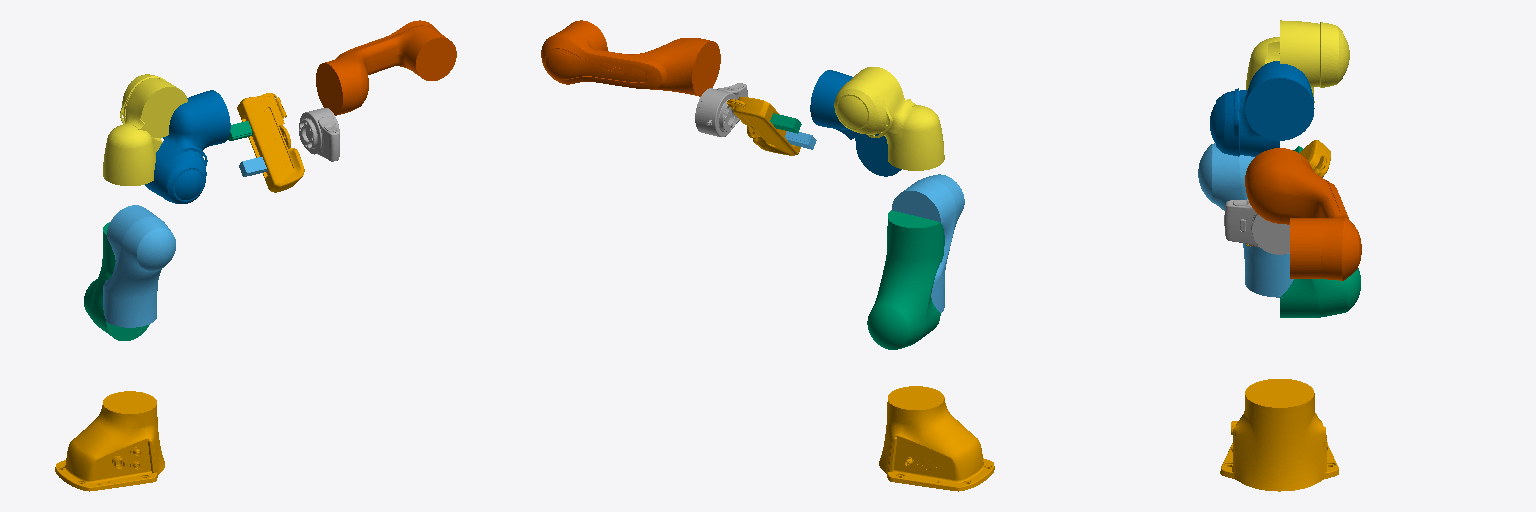
URDF robot description (panda):
<?xml version="1.0" ?>
<robot name="panda">

  <link name="panda_link0">
    <visual>
      <geometry>
        <mesh filename="../../../urdf/franka_description/meshes/visual/link0.obj"/>
      </geometry>
    </visual>
    <collision>
      <geometry>
        <mesh filename="../../../urdf/franka_description/meshes/collision/link0.stl"/>
      </geometry>
    </collision>
    <inertial>
      <origin rpy="0 0 0" xyz="-0.041018 -0.00014 0.049974"/>
      <mass value="0.629769"/>
      <inertia ixx="0.00315" ixy="8.2904e-07" ixz="0.00015" iyy="0.00388" iyz="8.2299e-06" izz="0.004285"/>
    </inertial>
  </link>

  <joint name="panda_joint1" type="revolute">
    <origin rpy="0 0 0" xyz="0 0 0.333"/>
    <parent link="panda_link0"/>
    <child link="panda_link1"/>
    <axis xyz="0 0 1"/>
    <limit effort="87" lower="-2.8973" upper="2.8973" velocity="2.1750"/>
    <dynamics damping="0.0" friction="0.0"/>
  </joint>

  <link name="panda_link1">
    <visual>
      <geometry>
        <mesh filename="../../../urdf/franka_description/meshes/visual/link1.obj"/>
      </geometry>
    </visual>
    <collision>
      <geometry>
        <mesh filename="../../../urdf/franka_description/meshes/collision/link1.stl"/>
      </geometry>
    </collision>
    <inertial>
      <origin rpy="0 0 0" xyz="0.003875 0.002081 -0.04762"/>
      <mass value="4.970684"/>
      <inertia ixx="0.70337" ixy="-0.000139" ixz="0.006772" iyy="0.70661" iyz="0.019169" izz="0.009117"/>
    </inertial>
  </link>

  <joint name="panda_joint2" type="revolute">
    <origin rpy="-1.5707963267948966 0 0" xyz="0 0 0"/>
    <parent link="panda_link1"/>
    <child link="panda_link2"/>
    <axis xyz="0 0 1"/>
    <limit effort="87" lower="-1.7628" upper="1.7628" velocity="2.1750"/>
    <dynamics damping="0.0" friction="0.0"/>
  </joint>
  
  <link name="panda_link2">
    <visual>
      <geometry>
        <mesh filename="../../../urdf/franka_description/meshes/visual/link2.obj"/>
      </geometry>
    </visual>
    <collision>
      <geometry>
        <mesh filename="../../../urdf/franka_description/meshes/collision/link2.stl"/>
      </geometry>
    </collision>
    <inertial>
      <origin rpy="0 0 0" xyz="-0.003141 -0.02872  0.003495"/>
      <mass value="0.646926"/>
      <inertia ixx="0.007962" ixy="-0.003925" ixz="0.010254" iyy="0.02811" iyz="0.000704" izz="0.025995"/>
    </inertial>
  </link>

  <joint name="panda_joint3" type="revolute">
    <origin rpy="1.5707963267948966 0 0" xyz="0 -0.316 0"/>
    <parent link="panda_link2"/>
    <child link="panda_link3"/>
    <axis xyz="0 0 1"/>
    <limit effort="87" lower="-2.8973" upper="2.8973" velocity="2.1750"/>
    <dynamics damping="0.0" friction="0.0"/>
  </joint>
  
  <link name="panda_link3">
    <visual>
      <geometry>
        <mesh filename="../../../urdf/franka_description/meshes/visual/link3.obj"/>
      </geometry>
    </visual>
    <collision>
      <geometry>
        <mesh filename="../../../urdf/franka_description/meshes/collision/link3.stl"/>
      </geometry>
    </collision>
    <inertial>
      <origin rpy="0 0 0" xyz="2.7518e-02 3.9252e-02 -6.6502e-02"/>
      <mass value="3.228604"/>
      <inertia ixx="0.037242" ixy="-0.004761" ixz="-0.011396" iyy="0.036155" iyz="-0.012805" izz="0.01083"/>
    </inertial>
  </link>

  <joint name="panda_joint4" type="revolute">
    <origin rpy="1.5707963267948966 0 0" xyz="0.0825 0 0"/>
    <parent link="panda_link3"/>
    <child link="panda_link4"/>
    <axis xyz="0 0 1"/>
    <limit effort="87" lower="-3.0718" upper="-0.0698" velocity="2.1750"/>
    <dynamics damping="0.0" friction="0.0"/>
  </joint>
  
  <link name="panda_link4">
    <visual>
      <geometry>
        <mesh filename="../../../urdf/franka_description/meshes/visual/link4.obj"/>
      </geometry>
    </visual>
    <collision>
      <geometry>
        <mesh filename="../../../urdf/franka_description/meshes/collision/link4.stl"/>
      </geometry>
    </collision>
    <inertial>
      <origin rpy="0 0 0" xyz="-5.317e-02 1.04419e-01 2.7454e-02"/>
      <mass value="3.587895"/>
      <inertia ixx="0.025853" ixy="0.007796" ixz="-0.001332" iyy="0.019552" iyz="0.008641" izz="0.028323"/>
    </inertial>
  </link>

  <joint name="panda_joint5" type="revolute">
    <origin rpy="-1.5707963267948966 0 0" xyz="-0.0825 0.384 0"/>
    <parent link="panda_link4"/>
    <child link="panda_link5"/>
    <axis xyz="0 0 1"/>
    <limit effort="12" lower="-2.8973" upper="2.8973" velocity="2.6100"/>
    <dynamics damping="0.0" friction="0.0"/>
  </joint>
  
  <link name="panda_link5">
    <visual>
      <geometry>
        <mesh filename="../../../urdf/franka_description/meshes/visual/link5.obj"/>
      </geometry>
    </visual>
    <collision>
      <geometry>
        <mesh filename="../../../urdf/franka_description/meshes/collision/link5.stl"/>
      </geometry>
    </collision>
    <inertial>
      <origin rpy="0 0 0" xyz="-1.1953e-02 4.1065e-02 -3.8437e-02"/>
      <mass value="1.225946"/>
      <inertia ixx="0.035549" ixy="-0.002117" ixz="-0.004037" iyy="0.029474" iyz="0.000229" izz="0.008627"/>
    </inertial>
  </link>

  <joint name="panda_joint6" type="revolute">
    <origin rpy="1.5707963267948966 0 0" xyz="0 0 0"/>
    <parent link="panda_link5"/>
    <child link="panda_link6"/>
    <axis xyz="0 0 1"/>
    <limit effort="12" lower="-0.0175" upper="3.7525" velocity="2.6100"/>
    <dynamics damping="0.0" friction="0.0"/>
  </joint>
  
  <link name="panda_link6">
    <visual>
      <geometry>
        <mesh filename="../../../urdf/franka_description/meshes/visual/link6.obj"/>
      </geometry>
    </visual>
    <collision>
      <geometry>
        <mesh filename="../../../urdf/franka_description/meshes/collision/link6.stl"/>
      </geometry>
    </collision>
    <inertial>
      <origin rpy="0 0 0" xyz="6.0149e-02 -1.4117e-02 -1.0517e-02"/>
      <mass value="1.666555"/>
      <inertia ixx="0.001964" ixy="0.000109" ixz="-0.001158" iyy="0.004354" iyz="0.000341" izz="0.005433"/>
    </inertial>
  </link>

  <joint name="panda_joint7" type="revolute">
    <origin rpy="1.5707963267948966 0 0" xyz="0.088 0 0"/>
    <parent link="panda_link6"/>
    <child link="panda_link7"/>
    <axis xyz="0 0 1"/>
    <limit effort="12" lower="-2.8973" upper="2.8973" velocity="2.6100"/>
    <dynamics damping="0.0" friction="0.0"/>
  </joint>
  
  <link name="panda_link7">
    <visual>
      <geometry>
        <mesh filename="../../../urdf/franka_description/meshes/visual/link7.obj"/>
      </geometry>
    </visual>
    <collision>
      <geometry>
        <mesh filename="../../../urdf/franka_description/meshes/collision/link7.stl"/>
      </geometry>
    </collision>
    <inertial>
      <origin rpy="0 0 0" xyz="1.0517e-02 -4.252e-03 6.1597e-02"/>
      <mass value="0.735522"/>
      <inertia ixx="0.012516" ixy="-0.000428" ixz="-0.001196" iyy="0.010027" iyz="-0.000741" izz="0.004815"/>
    </inertial>
  </link>

  <joint name="panda_hand_joint" type="fixed">
    <parent link="panda_link7"/>
    <child link="panda_hand"/>
    <origin rpy="0 0 -0.7853981633974483" xyz="0 0 0.107"/>
  </joint>
  
  <link name="panda_hand">
    <visual>
      <geometry>
        <mesh filename="../../../urdf/franka_description/meshes/visual/hand.obj"/>
      </geometry>
    </visual>
    <collision>
      <geometry>
        <mesh filename="../../../urdf/franka_description/meshes/collision/hand.stl"/>
      </geometry>
    </collision>
    <inertial>
      <origin rpy="0 0 0" xyz="-0.01 0 0.03"/>
      <mass value="0.73"/>
      <inertia ixx="0.001" ixy="0" ixz="0" iyy="0.0025" iyz="0" izz="0.0017"/>
    </inertial>
  </link>

  <joint name="panda_finger_joint1" type="fixed">
    <parent link="panda_hand"/>
    <child link="panda_leftfinger"/>
    <origin xyz="0.0 0.025361460000000002 0.0584" rpy="0.0 0.0 0.0"/>
</joint>

  <joint name="panda_finger_joint2" type="fixed">
    <parent link="panda_hand"/>
    <child link="panda_rightfinger"/>
    <origin xyz="0.0 -0.025361460000000002 0.0584" rpy="0.0 0.0 0.0"/>
</joint>
  
  <link name="panda_leftfinger">
    <visual>
      <geometry>
        <mesh filename="../../mesh/fabrica_franka_table/fabrica_franka_finger_rubber_viz.obj"/>
      </geometry>
    </visual>
    <!--finger-->
    <collision>
      <origin rpy="0 0 0" xyz="0.0 0.0155 0.027"/>
      <geometry>
        <box size="0.021 0.026 0.054"/>
      </geometry>
    </collision>
    <!--fingerpad-->
    <collision>
      <origin rpy="0 0 0" xyz="0.0 0.00125 0.02923232"/>
      <geometry>
        <box size="0.01224264 0.0025 0.04377800"/>
      </geometry>
    </collision>
    <inertial>
      <origin rpy="0 0 0" xyz="0 0.0114 0.0231"/>
      <mass value="0.0297"/>
      <inertia ixx="7.552e-06" ixy="0" ixz="0" iyy="7.159e-06" iyz="1.043e-6" izz="2.352e-06"/>
    </inertial>
  </link>

  <link name="panda_rightfinger">
    <visual>
      <origin rpy="0 0 3.141592653589793" xyz="0 0 0"/>
      <geometry>
        <mesh filename="../../mesh/fabrica_franka_table/fabrica_franka_finger_rubber_viz.obj"/>
      </geometry>
    </visual>
    <!--finger-->
    <collision>
      <origin rpy="0 0 0" xyz="0.0 -0.0155 0.027"/>
      <geometry>
        <box size="0.021 0.026 0.054"/>
      </geometry>
    </collision>
    <!--fingerpad-->
    <collision>
      <origin rpy="0 0 0" xyz="0.0 -0.00125 0.02923232"/>
      <geometry>
        <box size="0.01224264 0.0025 0.04377800"/>
      </geometry>
    </collision>
    <inertial>
      <origin rpy="0 0 3.141592653589793" xyz="0 0.0114 0.0231"/>
      <mass value="0.0297"/>
      <inertia ixx="7.552e-06" ixy="0" ixz="0" iyy="7.159e-06" iyz="1.043e-6" izz="2.352e-06"/>
    </inertial>
  </link>

  <!--Used for calculating pose and Jacobian.
  Joint connects hand to dummy link located at midpoint between centers of original fingerpads (when fingers are mirrored).-->
  <joint name="panda_fingertip_centered_joint" type="fixed">
      <parent link="panda_hand"/>
      <child link="panda_fingertip_centered"/>
      <origin rpy="0 0 0" xyz="0 0 0.1034"/>
  </joint>

  <link name="panda_fingertip_centered">
    <inertial>
      <origin rpy="0 0 0" xyz="0 0 0"/>
      <mass value="1.0e-6"/>
      <inertia ixx="1.0e-09" ixy="0" ixz="0" iyy="1.0e-09" iyz="0" izz="1.0e-09"/>
    </inertial>
  </link>

<link name="0">
        <visual>
	<origin xyz="0 0 0" rpy="-1.5708 0 0"/>
            <geometry>
                <mesh filename="../../mesh/fabrica/plumbers_block/0.obj"/>
            </geometry>
        </visual>
        <collision>
            <geometry>
                <mesh filename="../../mesh/fabrica/plumbers_block/0.obj"/>
            </geometry>
            <sdf resolution="512"/>
        </collision>
    </link>

    <joint name="0_joint" type="fixed">
        <parent link="panda_hand"/>
        <child link="0"/>
        <origin xyz="-0.010440912837860777 0.007856807913019327 0.17024434502850333" rpy="2.604580158515261 0.00571976984081779 -1.5611896856516176" />
    </joint>
    
</robot>

--- What the picture shows (computed from the rendered views, not written in the file) ---
3 views of the same robot in one strip: view 1: azimuth 30°, elevation 25°; view 2: azimuth 150°, elevation 25°; view 3: azimuth 270°, elevation 25° (orthographic).
Model panda with 13 links and 12 joints (7 revolute, 5 fixed), rooted at panda_link0, posed all joints at 0 but 1 set to mid-range because 0 is outside their limits (panda_joint4 = -1.57).
Visible links, largest first — view 1: panda_link0, panda_link5, panda_link1, panda_link3, panda_link4, panda_hand, panda_link2, panda_link7; view 2: panda_link0, panda_link5, panda_link2, panda_link3, panda_link1, panda_link4, panda_hand, panda_link7; view 3: panda_link0, panda_link5, panda_link4, panda_link3, panda_link1, panda_link2, panda_link7, panda_hand.
Link boxes in pixels (x1,y1,x2,y2): panda_link0: [55, 391, 164, 491]; panda_link5: [316, 20, 456, 115]; panda_link1: [103, 205, 175, 327]; panda_link3: [103, 74, 187, 185]; panda_link4: [145, 90, 230, 203]; panda_hand: [237, 93, 304, 192]; panda_link2: [84, 222, 149, 340]; panda_link7: [299, 108, 339, 161]; panda_link0: [879, 386, 994, 491]; panda_link5: [541, 20, 720, 96]; panda_link2: [867, 210, 944, 349]; panda_link3: [834, 67, 944, 170]; panda_link1: [892, 174, 964, 312]; panda_link4: [810, 70, 901, 176]; panda_hand: [727, 97, 800, 155]; panda_link7: [695, 83, 747, 136]; panda_link0: [1220, 379, 1338, 491]; panda_link5: [1245, 148, 1361, 280]; panda_link4: [1210, 61, 1314, 156]; panda_link3: [1246, 20, 1349, 102]; panda_link1: [1198, 143, 1293, 297]; panda_link2: [1280, 268, 1360, 317]; panda_link7: [1224, 199, 1289, 254]; panda_hand: [1246, 140, 1330, 246].
Bounding box of the posed robot: 0.9318 × 0.2593 × 0.825 m (x, y, z).
Meshes: 11 distinct files referenced, 10 mesh visuals loaded (9 OBJ); not drawn: 1 (reference not matched to a file when rendering), 1 (file found but could not be loaded).
